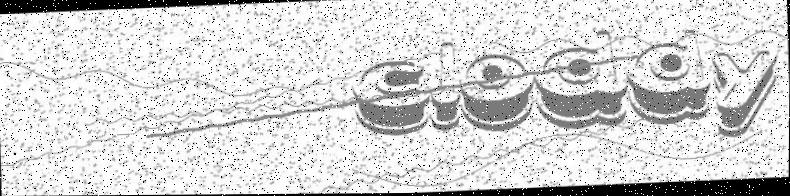c: (350, 57, 432, 138)
d: (532, 29, 630, 131), (626, 29, 711, 127)
l: (429, 41, 463, 133)
o: (459, 53, 536, 134)
y: (711, 47, 780, 140)
